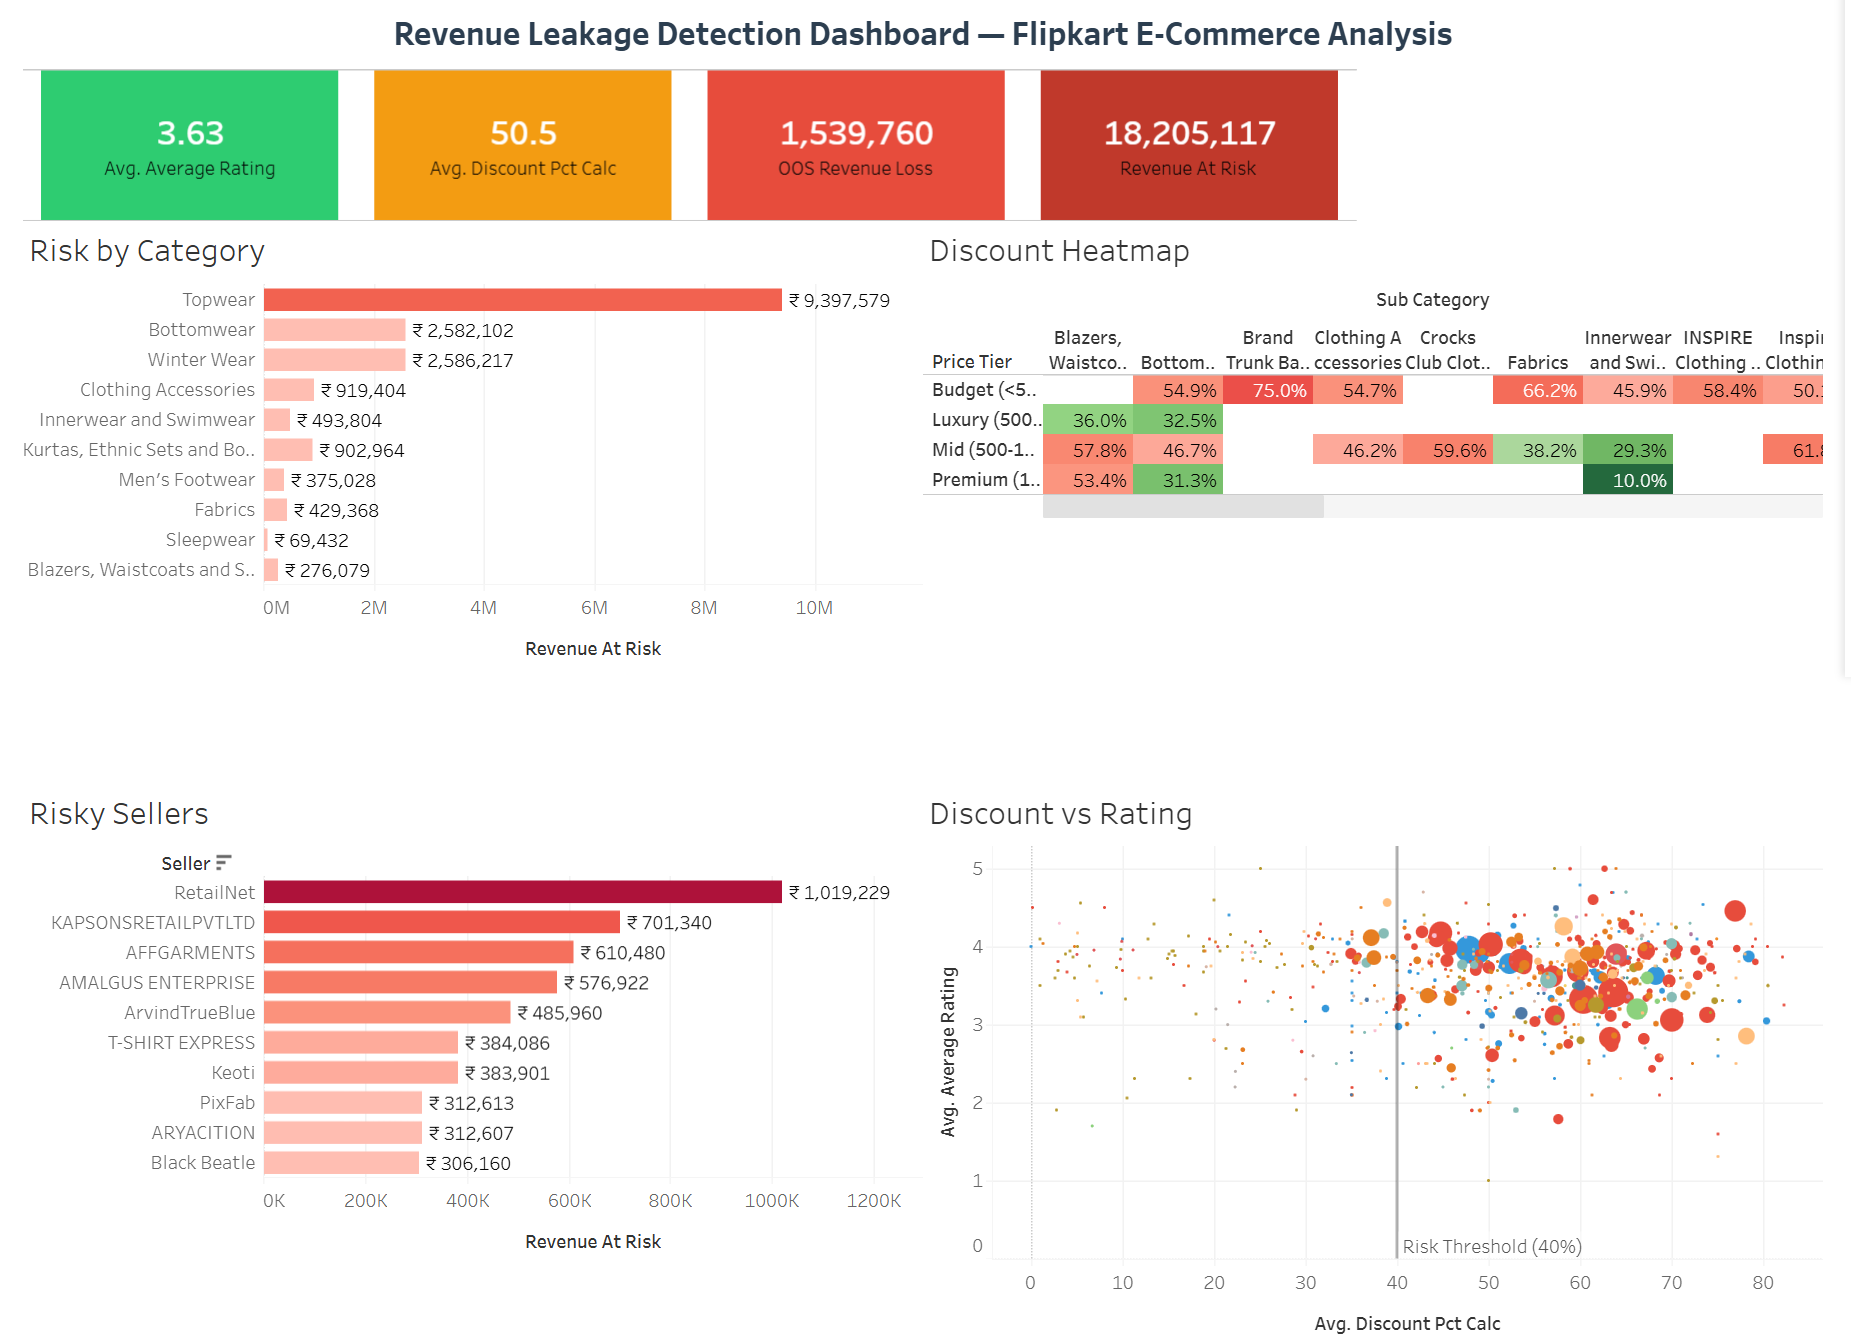

The dashboard page shown, as its layout file describes it:
{"tool":"tableau","page":{"name":"Dashboard 1","canvas":[1200,900],"ordinal":0},"visuals":[{"type":"text","box":[0,0,1200,50]},{"type":"worksheet","title":"KPIs","mark":"Square","box":[0,50,1200,101]},{"type":"worksheet","title":"Risk by Category","mark":"Bar","rows":["sub_category"],"cols":["revenue_at_risk"],"box":[0,150,600,375]},{"type":"worksheet","title":"Discount Heatmap","mark":"Square","rows":["price_tier"],"cols":["sub_category"],"box":[600,150,600,375]},{"type":"worksheet","title":"Risky Sellers","mark":"Bar","rows":["seller"],"cols":["revenue_at_risk"],"box":[0,525,600,375]},{"type":"worksheet","title":"Discount vs Rating","mark":"Circle","rows":["average_rating"],"cols":["discount_pct_calc"],"box":[600,525,600,375]}]}

Visuals, with their boxes on the page's 1200x900 design canvas (x1, y1, x2, y2). These are canvas units, not pixel positions in the 1851x1343 screenshot, which may show the page scaled, cropped or inside an application window:
text: bbox=[0, 0, 1200, 50]
"KPIs" worksheet (Square marks): bbox=[0, 50, 1200, 151]
"Risk by Category" worksheet (Bar marks): bbox=[0, 150, 600, 525]
"Discount Heatmap" worksheet (Square marks): bbox=[600, 150, 1200, 525]
"Risky Sellers" worksheet (Bar marks): bbox=[0, 525, 600, 900]
"Discount vs Rating" worksheet (Circle marks): bbox=[600, 525, 1200, 900]
